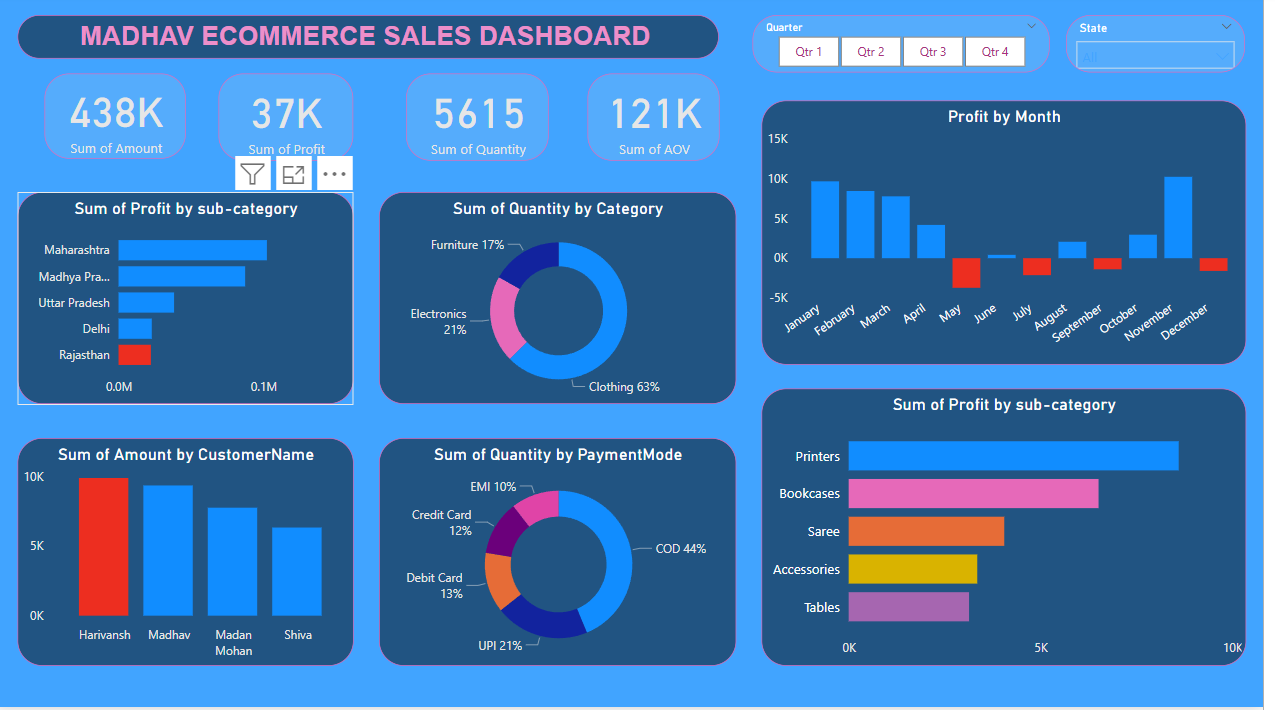

The dashboard page shown, as its layout file describes it:
{"tool":"powerbi","page":{"name":"Page 1","canvas":[1280,720],"ordinal":0},"visuals":[{"type":"textbox","box":[22.6,21.4,708.1,44],"z":0},{"type":"columnChart","title":"Profit by Month","fields":{"Category":["Orders.Order Date.Variation.Date Hierarchy.Month"],"Y":["Details.Profit"]},"box":[773.6,107.1,489.1,266.6],"z":1000},{"type":"barChart","title":"Sum of Profit by sub-category","fields":{"Category":["Details.Sub-Category"],"Y":["Details.Profit"]},"box":[773.6,397.5,489.1,279.7],"z":2000},{"type":"donutChart","fields":{"Category":["Details.Category"],"Y":["Details.Quantity"]},"box":[388,199.9,360.6,214.2],"z":3000},{"type":"donutChart","fields":{"Y":["Details.Quantity"],"Category":["Details.PaymentMode"]},"box":[388,447.5,360.6,229.7],"z":4000},{"type":"card","fields":{"Values":["Details.Amount"]},"box":[50,79.7,142.8,85.7],"z":5000},{"type":"card","fields":{"Values":["Details.Profit"]},"box":[226.1,80.9,135.7,88.1],"z":6000},{"type":"card","fields":{"Values":["Details.Quantity"]},"box":[415.3,80.9,144,88.1],"z":7000},{"type":"card","fields":{"Values":["Details.AOV"]},"box":[597.4,79.7,133.3,88.1],"z":8000},{"type":"barChart","title":"Sum of Profit by sub-category","fields":{"Category":["Orders.State"],"Y":["Details.Amount"]},"box":[22.6,199.9,339.2,214.2],"z":9000},{"type":"columnChart","fields":{"Category":["Orders.CustomerName"],"Y":["Details.Amount"]},"box":[22.6,447.5,339.2,229.7],"z":10000},{"type":"slicer","fields":{"Values":["Orders.Order Date.Variation.Date Hierarchy.Quarter"]},"box":[765.2,21.4,299.9,58.3],"z":11000},{"type":"slicer","fields":{"Values":["Orders.State"]},"box":[1081.8,21.4,180.9,58.3],"z":12000}]}

Visuals, with their boxes in screenshot pixels (x1, y1, x2, y2), scaled from the page's 1280x720 canvas onto the 1275x710 screenshot:
textbox: 23 21 728 64
"Profit by Month" columnChart: 771 106 1258 369
"Sum of Profit by sub-category" barChart: 771 392 1258 668
donutChart - Details.Category x Details.Quantity: 386 197 746 408
donutChart - Details.Quantity x Details.PaymentMode: 386 441 746 668
card - Details.Amount: 50 79 192 163
card - Details.Profit: 225 80 360 167
card - Details.Quantity: 414 80 557 167
card - Details.AOV: 595 79 728 165
"Sum of Profit by sub-category" barChart: 23 197 360 408
columnChart - Orders.CustomerName x Details.Amount: 23 441 360 668
slicer - Orders.Order Date.Variation.Date Hierarchy.Quarter: 762 21 1061 79
slicer - Orders.State: 1078 21 1258 79
